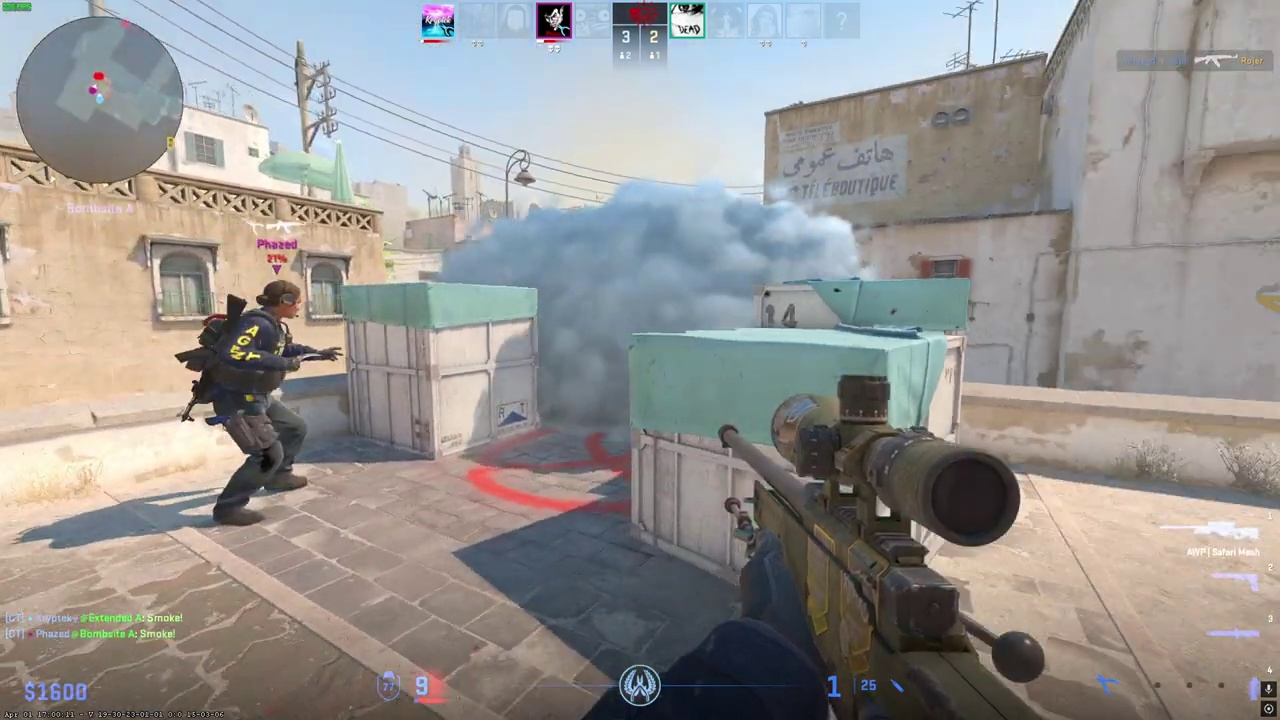CT: (210, 280, 315, 527)
